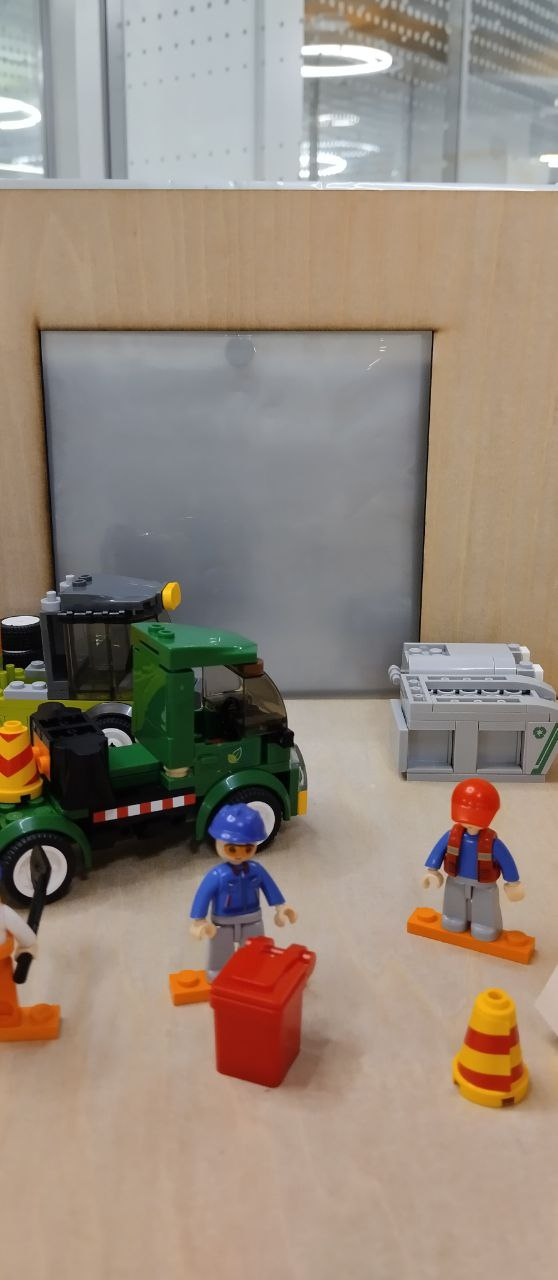Cone: (450, 988, 537, 1111), (0, 713, 51, 808)
Crane: (1, 569, 187, 724)
Object Black: (30, 702, 106, 810)
Object Red: (207, 938, 314, 1086)
Truck: (15, 621, 305, 908)
